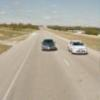cars: (68, 38, 88, 55), (40, 38, 57, 52)
